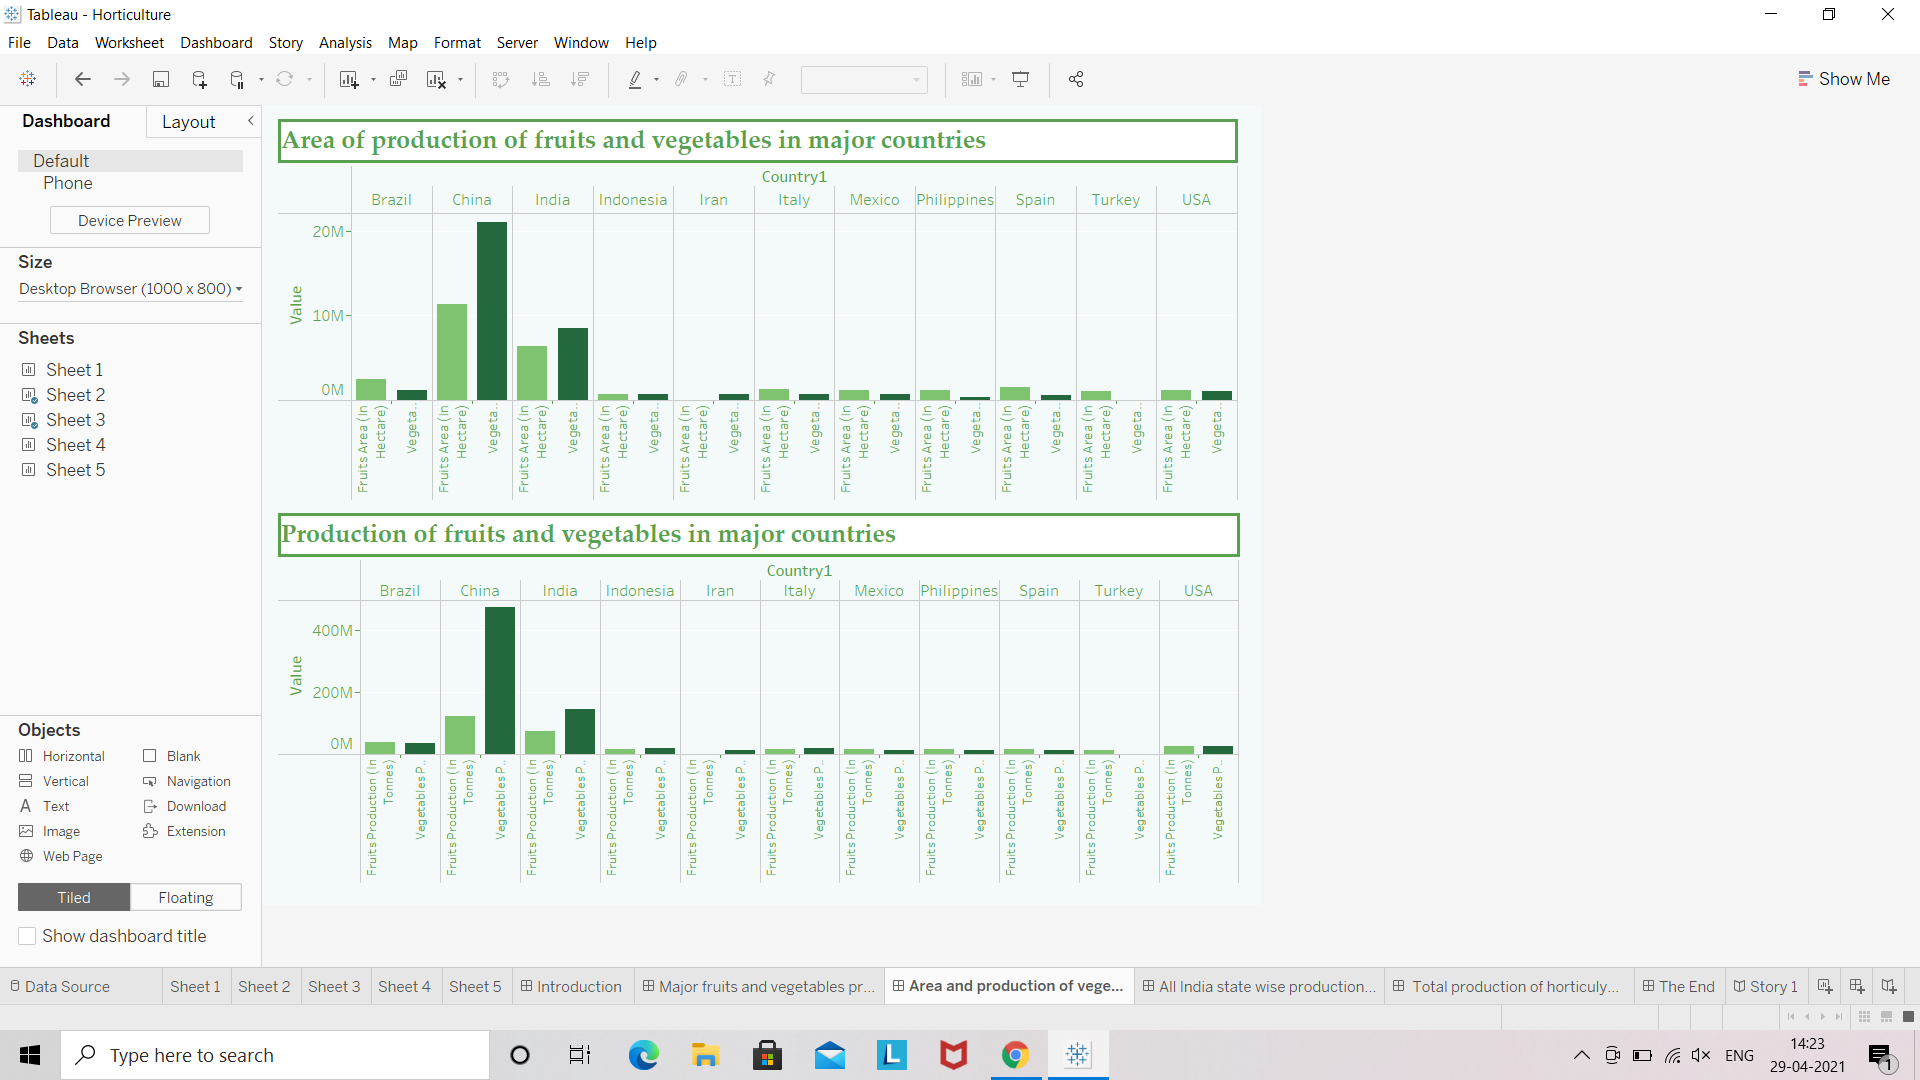

The page's visual inventory and layout, read from the dashboard file:
{"tool":"tableau","page":{"name":"Area and production of vegetables and fruits","canvas":[1000,800],"ordinal":2},"visuals":[{"type":"worksheet","title":"Sheet 2","mark":"Automatic","cols":["Country"],"box":[16,14,960,382]},{"type":"worksheet","title":"Sheet 3","mark":"Automatic","cols":["Country"],"box":[16,408,962,371]}]}

Visuals, with their boxes on the page's 1000x800 design canvas (x1, y1, x2, y2). These are canvas units, not pixel positions in the 1920x1080 screenshot, which may show the page scaled, cropped or inside an application window:
"Sheet 2" worksheet: 16, 14, 976, 396
"Sheet 3" worksheet: 16, 408, 978, 779
